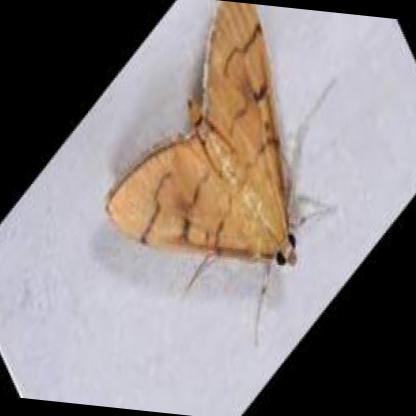Leaf Webber: (105, 0, 340, 353)
